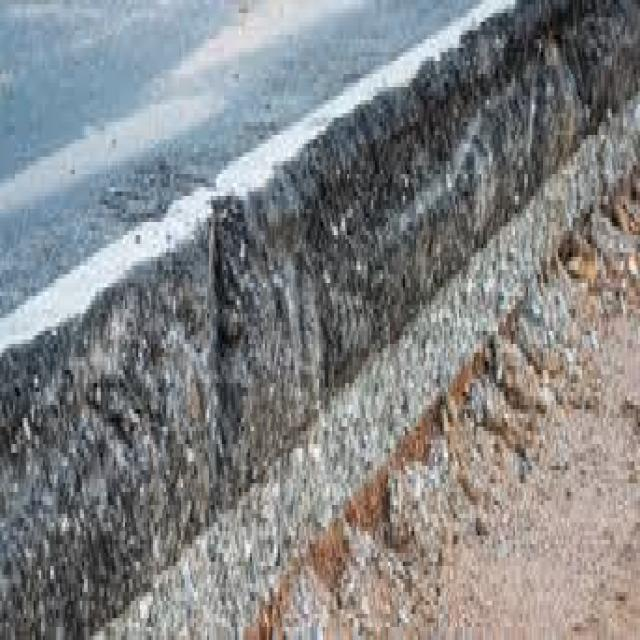curb: (1, 143, 313, 640), (445, 6, 640, 369), (326, 59, 449, 592)
